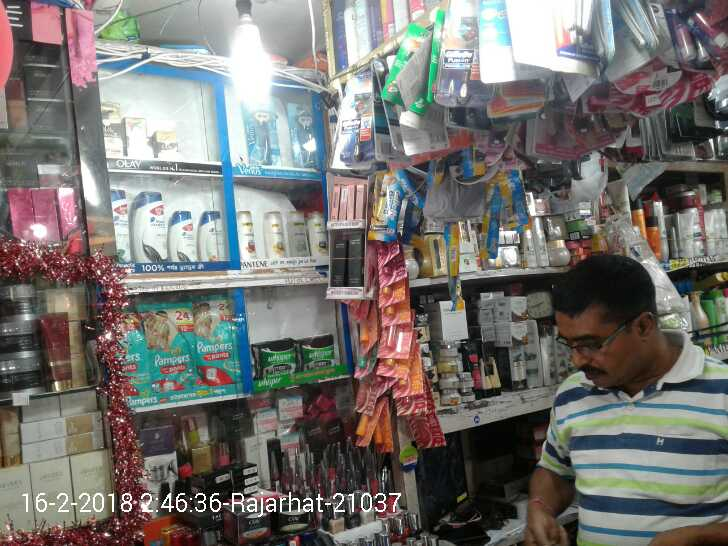gillete: (330, 113, 372, 167), (437, 49, 472, 104), (371, 172, 395, 240), (505, 174, 529, 233), (478, 206, 501, 257), (447, 246, 462, 311), (447, 221, 457, 245)
venus: (248, 98, 291, 165), (291, 104, 313, 165)
